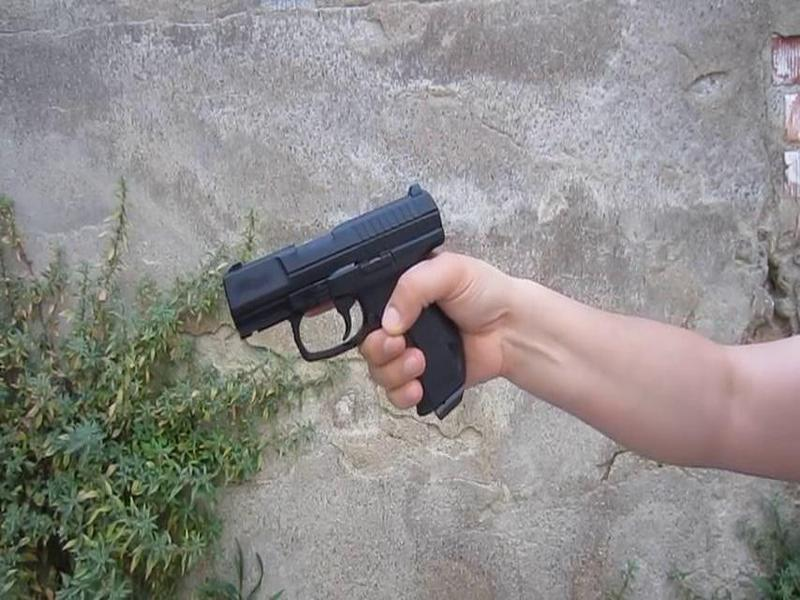Pistola: (225, 185, 468, 425)
